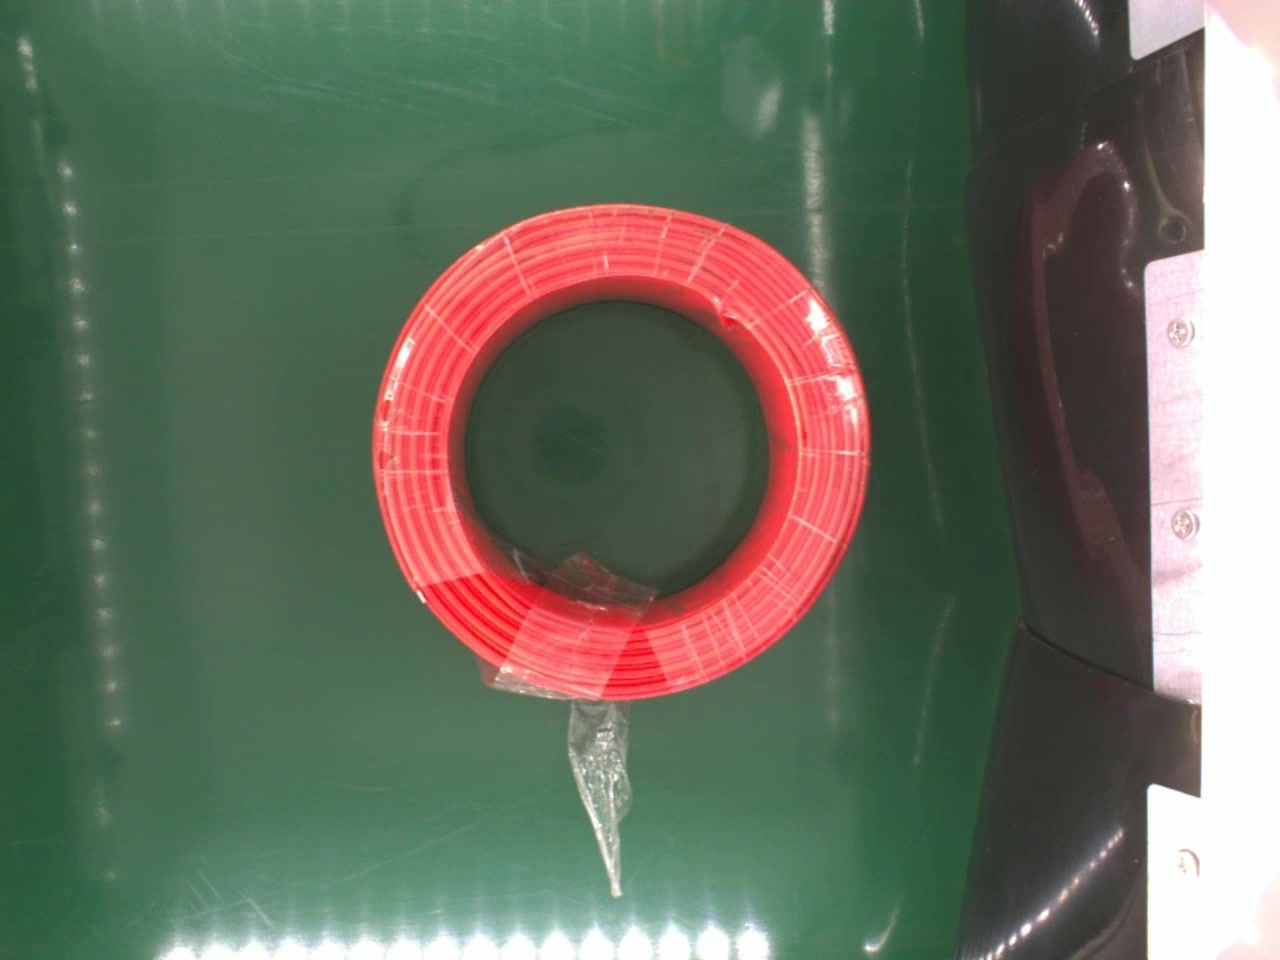red: (367, 201, 872, 705)
